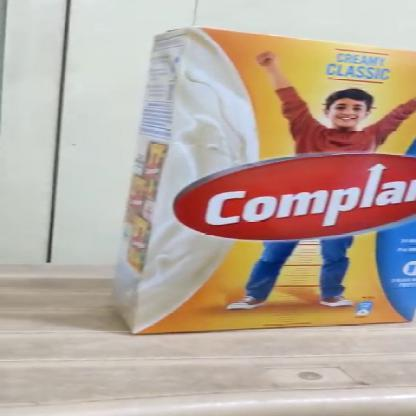Complan Classic Creme: (129, 28, 415, 332)
